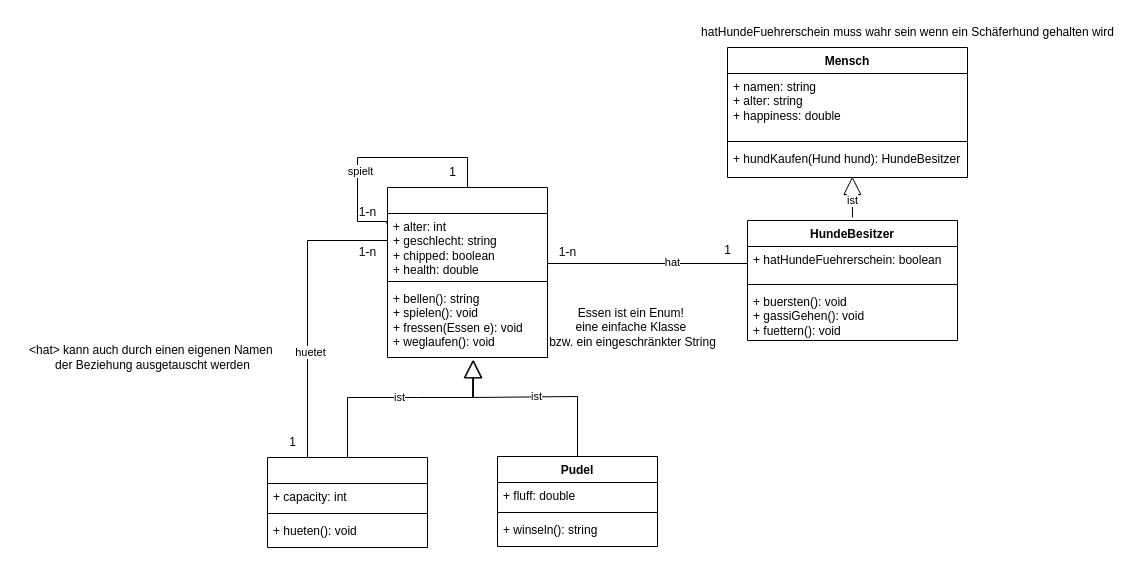
This 1144x567 diagram has some shape labels left out. Each missing label, with the box of its shape:
Hund: (386, 186, 548, 358)
SchäferHund: (266, 456, 428, 548)
